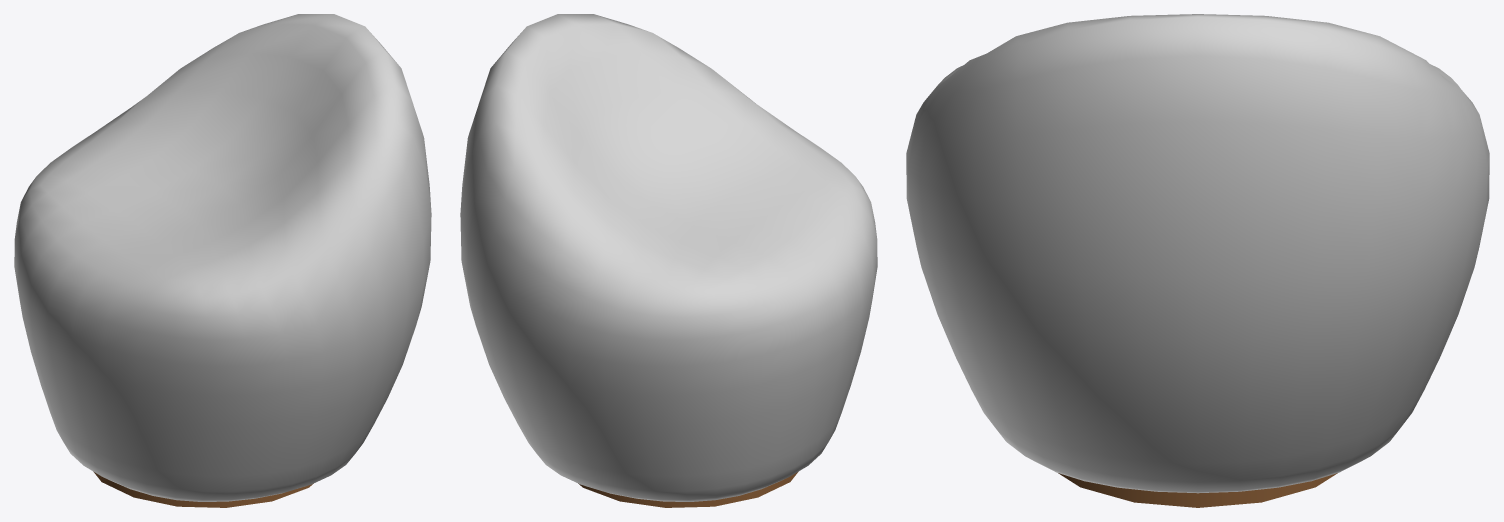
Rendered from beanbag_03_white.fbx.
3 views of the same model, side by side, from view 1: azimuth 30°, elevation 25°; view 2: azimuth 150°, elevation 25°; view 3: azimuth 270°, elevation 25° (orthographic). The views are drawn at different scales.
Parts seen in each view (by area): view 1: beanbag_03_white; view 2: beanbag_03_white; view 3: beanbag_03_white.
Boxes of the visible parts, x1,y1,x2,y2 form: beanbag_03_white: [14, 14, 431, 507]; beanbag_03_white: [460, 14, 877, 507]; beanbag_03_white: [906, 14, 1489, 507].
Size of the model in its own units: 80.92 by 86.21 by 87.42.
Materials: 2 (2 with a texture image).
